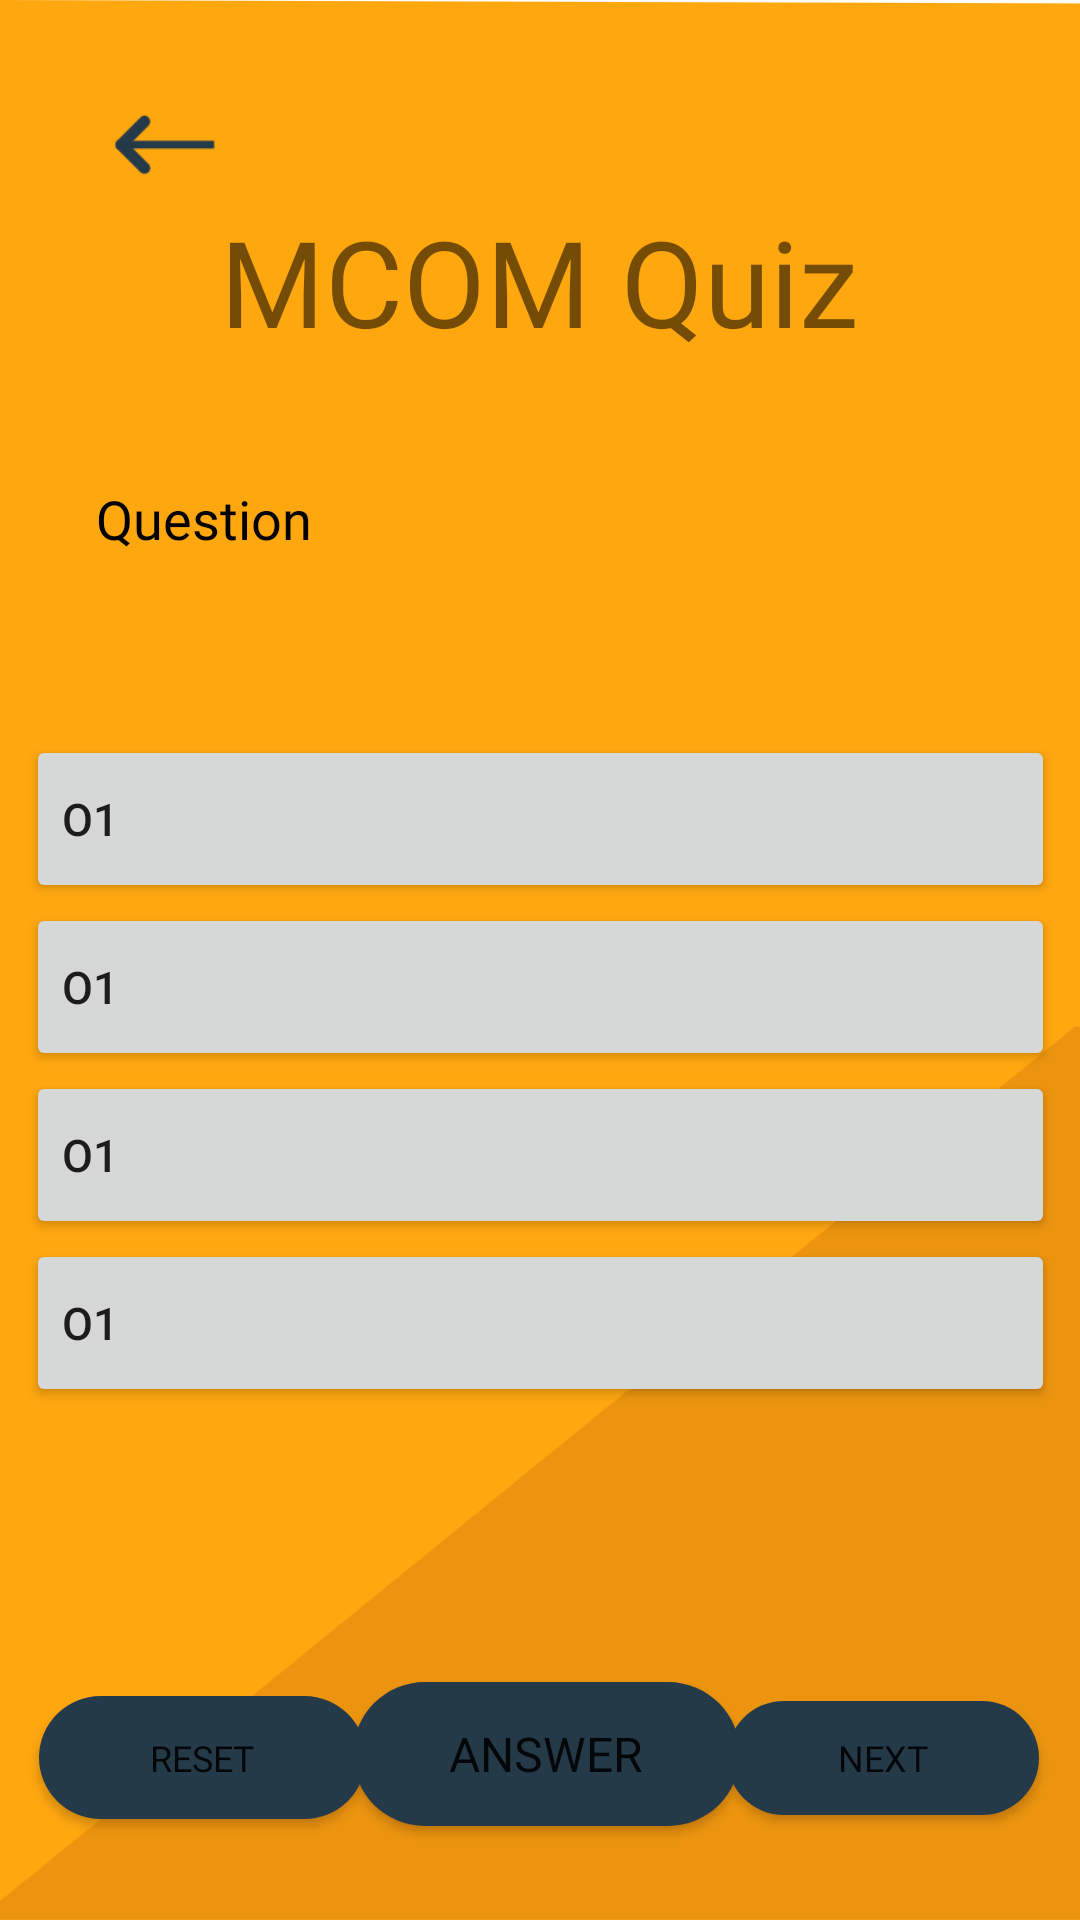

Point at icon controls on the screen. Image size 1080px x 1920px, points as (x=x, y=y).
Back Arrow: (x=164, y=144)
